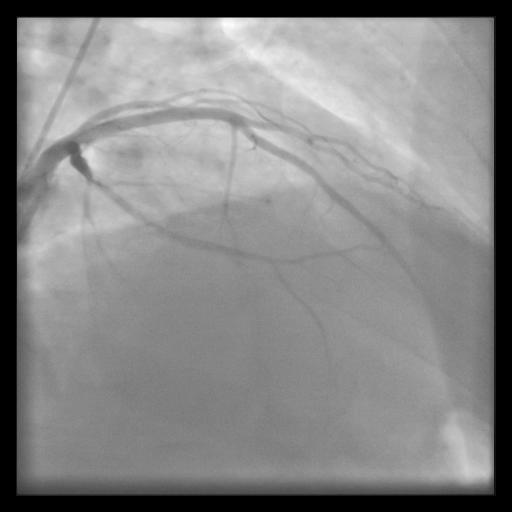Stenosis: (82, 165, 112, 197)
